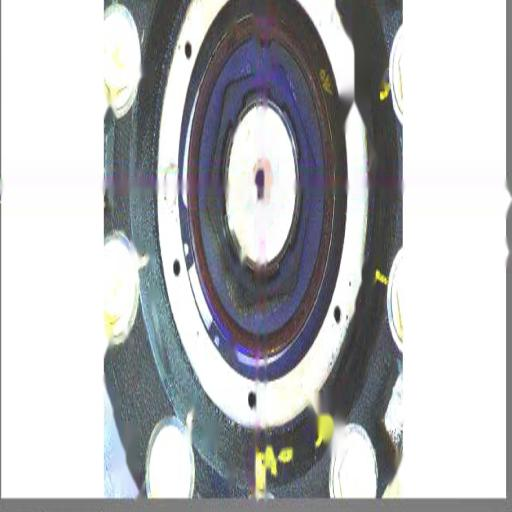center: (253, 165, 268, 198)
notch: (256, 31, 276, 58)
